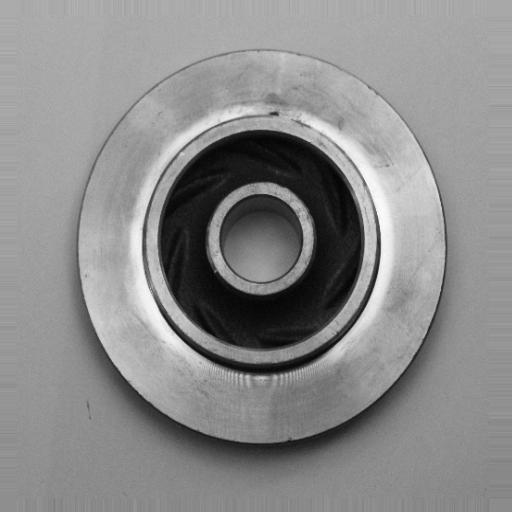crack: (253, 107, 300, 124)
unpolished_casting: (74, 47, 452, 449)
